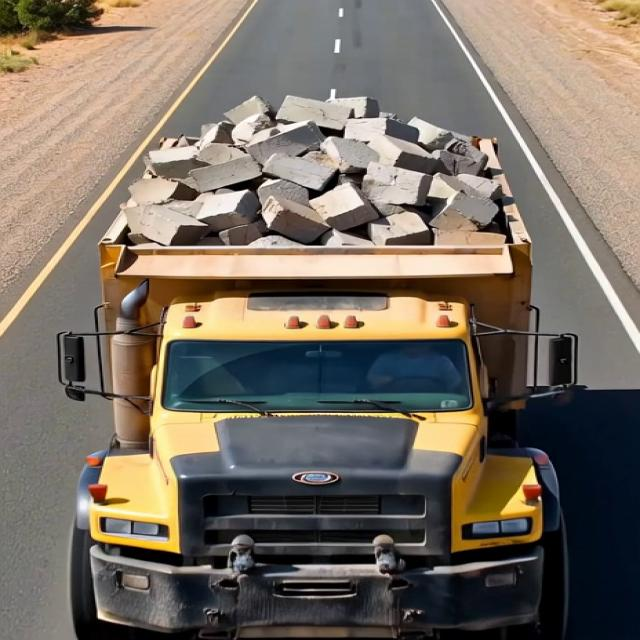Box: (96, 98, 544, 280)
Truck: (56, 71, 597, 640)
